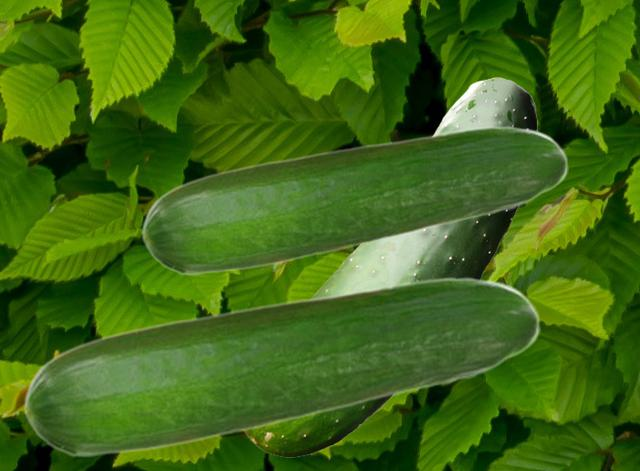cucumber: (243, 77, 536, 456), (23, 276, 539, 457), (141, 125, 567, 275)
